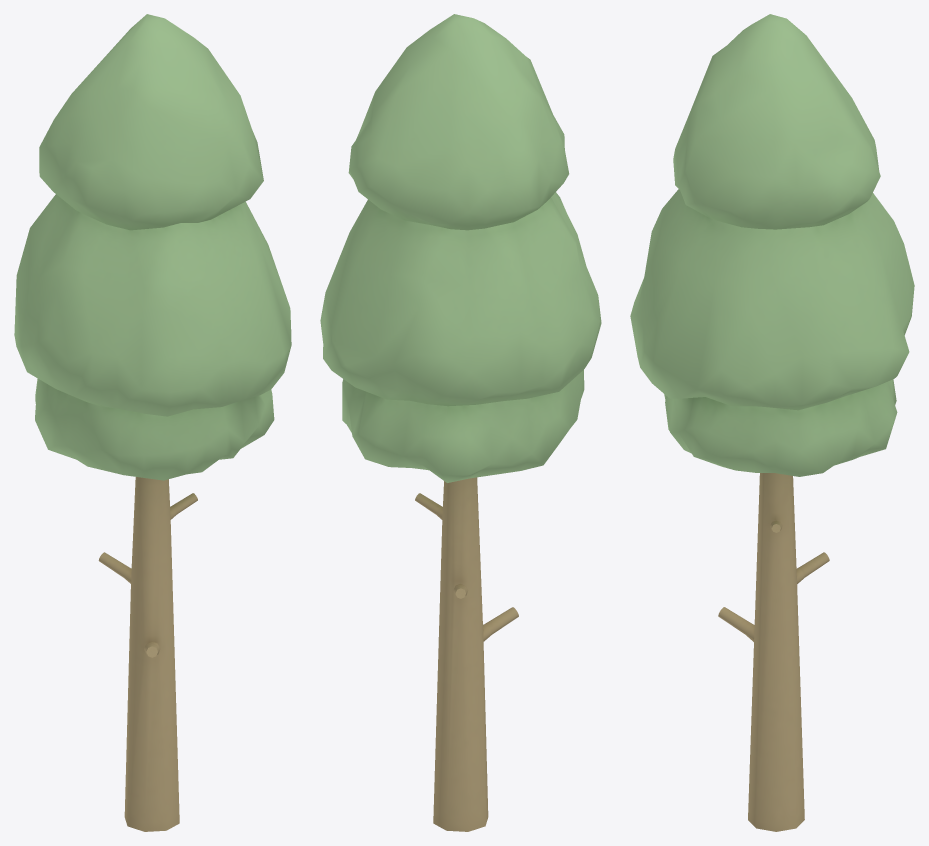
The picture shows the model from 3 angles, left to right: view 1: azimuth 30°, elevation 25°; view 2: azimuth 150°, elevation 25°; view 3: azimuth 270°, elevation 25°; orthographic projection.
Visible parts, largest first — view 1: Sosna; view 2: Sosna; view 3: Sosna.
Boxes of the visible parts, box(x1,y1,x2,y2) form: Sosna: box(14, 14, 291, 831); Sosna: box(320, 14, 601, 831); Sosna: box(630, 14, 914, 831).
Bounding box in the file's own units: 7.1 × 22.76 × 7.32.
1 material, 1 textured.
